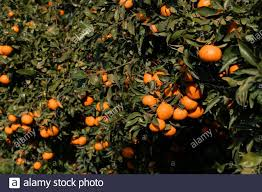orange: (197, 42, 225, 63), (177, 93, 199, 110), (157, 102, 174, 120)
